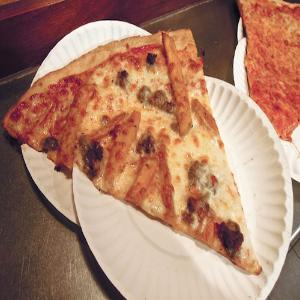cheeseburger_475cal: (8, 30, 269, 289)
